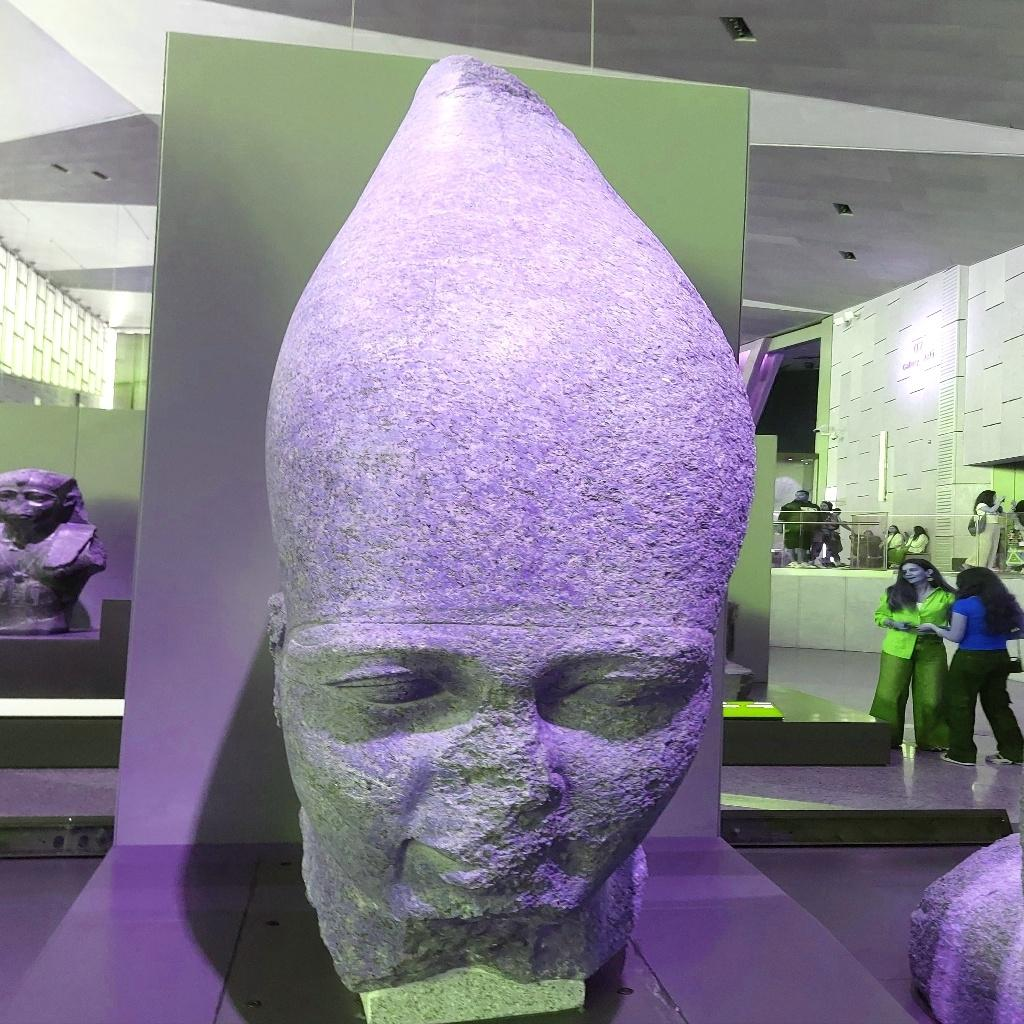Clossal head of Senwosret 1: (256, 50, 764, 1010)
